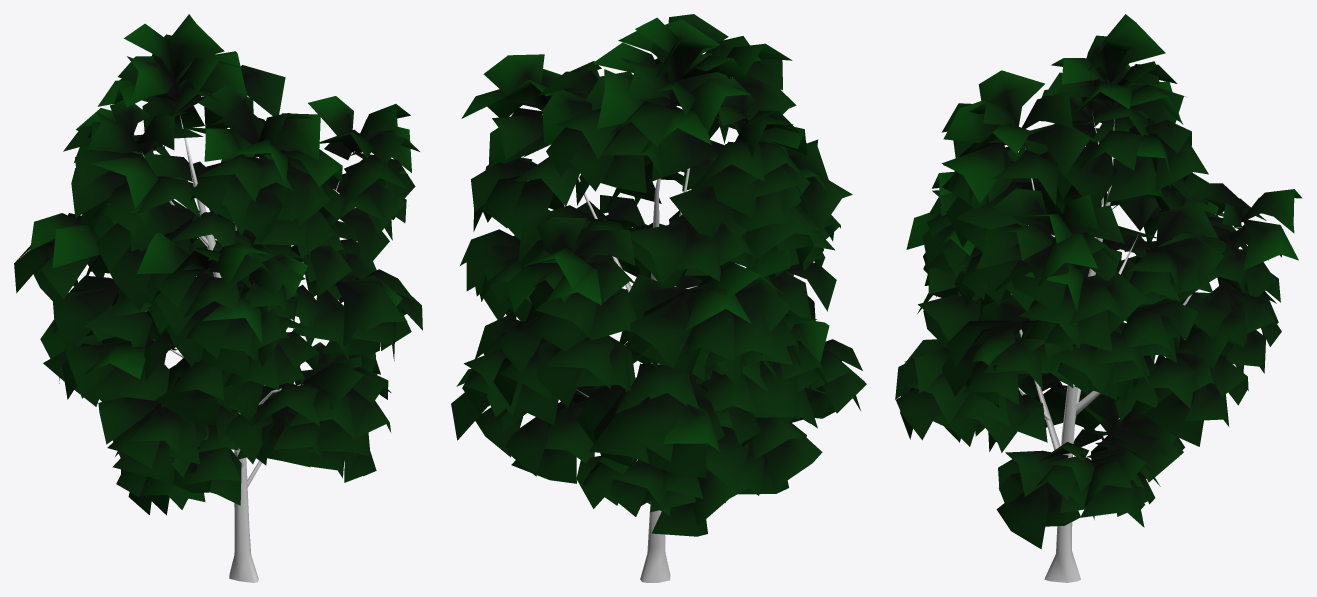
File: CupuacuTree01_afsTREE_xlprl10_xlt_xef20_xmw03_xlb05_xlod02.fbx
The picture shows the model from 3 angles, left to right: view 1: azimuth 30°, elevation 25°; view 2: azimuth 150°, elevation 25°; view 3: azimuth 270°, elevation 25°; orthographic projection. The views are drawn at different scales.
Parts seen in each view (by area): view 1: leaf01.229, leaf01.114, trunk_xw12_xt12, leaf01.089_xp08, leaf01.126, leaf01.109, leaf01.411, leaf01.110, leaf01.147, leaf01.369, leaf01.159, leaf01.150 (+94 smaller); view 2: leaf01.070, leaf01.423, leaf01.175, leaf01.394, leaf01.418, leaf01.123, leaf01.424, leaf01.105, leaf01.353, leaf01.042, leaf01.370, leaf01.120 (+112 smaller); view 3: trunk_xw12_xt12, leaf01.017, leaf01.204, leaf01.223, leaf01.096, leaf01.182, leaf01.081, leaf01.428, leaf01.382, leaf01.376, leaf01.380, leaf01.273 (+94 smaller).
Part boxes in pixels (bbox=[...]): leaf01.229: bbox=[335, 281, 407, 346]; leaf01.114: bbox=[52, 286, 119, 352]; trunk_xw12_xt12: bbox=[180, 115, 258, 582]; leaf01.089_xp08: bbox=[168, 14, 224, 78]; leaf01.126: bbox=[84, 290, 152, 347]; leaf01.109: bbox=[98, 397, 159, 444]; leaf01.411: bbox=[130, 203, 199, 251]; leaf01.110: bbox=[64, 343, 117, 398]; leaf01.147: bbox=[155, 387, 220, 425]; leaf01.369: bbox=[52, 225, 99, 268]; leaf01.159: bbox=[98, 245, 152, 310]; leaf01.150: bbox=[197, 86, 258, 140]; leaf01.070: bbox=[605, 392, 677, 461]; leaf01.423: bbox=[630, 293, 692, 368]; leaf01.175: bbox=[615, 363, 698, 413]; leaf01.394: bbox=[651, 128, 725, 181]; leaf01.418: bbox=[630, 221, 687, 283]; leaf01.123: bbox=[704, 306, 781, 367]; leaf01.424: bbox=[669, 185, 729, 237]; leaf01.105: bbox=[597, 69, 673, 128]; leaf01.353: bbox=[545, 336, 614, 388]; leaf01.042: bbox=[765, 424, 822, 489]; leaf01.370: bbox=[690, 138, 758, 218]; leaf01.120: bbox=[744, 360, 799, 420]; trunk_xw12_xt12: bbox=[1044, 119, 1114, 582]; leaf01.017: bbox=[996, 482, 1048, 549]; leaf01.204: bbox=[1003, 237, 1068, 314]; leaf01.223: bbox=[941, 143, 1004, 203]; leaf01.096: bbox=[978, 70, 1044, 126]; leaf01.182: bbox=[1243, 219, 1298, 270]; leaf01.081: bbox=[1144, 389, 1203, 446]; leaf01.428: bbox=[1026, 123, 1099, 175]; leaf01.382: bbox=[1156, 202, 1218, 247]; leaf01.376: bbox=[1106, 156, 1162, 202]; leaf01.380: bbox=[1057, 152, 1114, 208]; leaf01.273: bbox=[918, 293, 980, 341].
Size of what is drawn, in the model's own units: 4.27 by 4.58 by 6.52.
